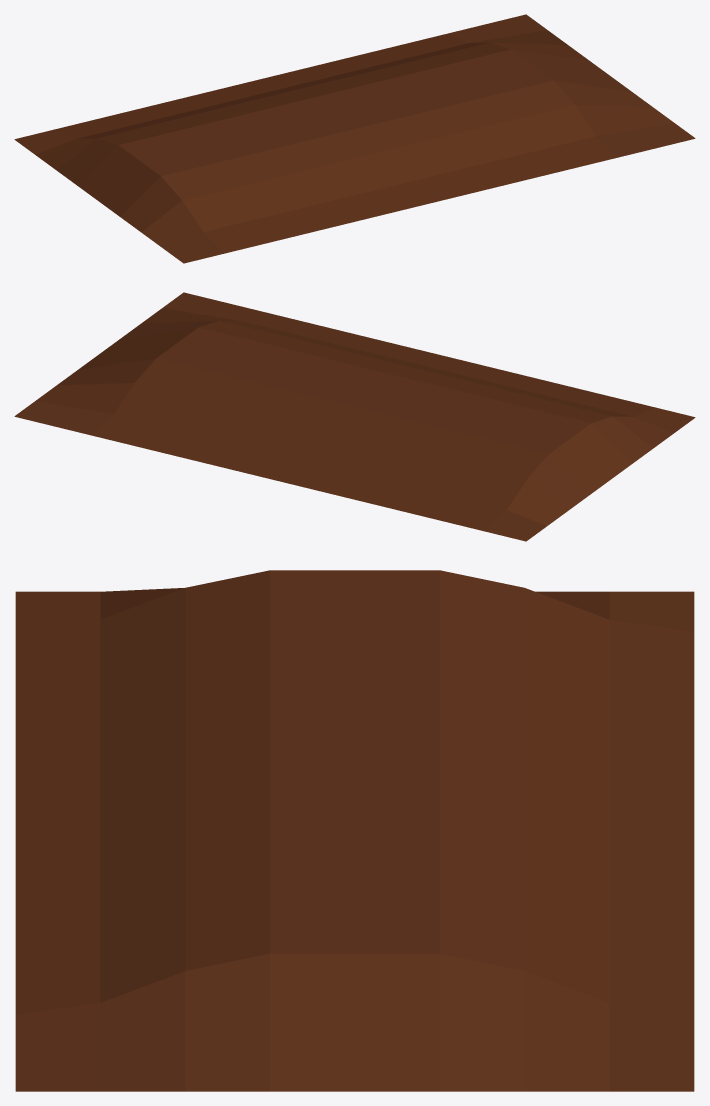
Rendered from Grave5.fbx.
3 views of the same model, one above another, from view 1: azimuth 30°, elevation 25°; view 2: azimuth 150°, elevation 25°; view 3: azimuth 270°, elevation 25° (orthographic). The views are drawn at different scales.
Visible parts, largest first — view 1: Grave5; view 2: Grave5; view 3: Grave5.
Boxes of the visible parts, left/top/right/bottom form: Grave5: left=14, top=14, right=695, bottom=263; Grave5: left=14, top=292, right=695, bottom=541; Grave5: left=15, top=570, right=694, bottom=1091.
Bounding box in the file's own units: 1189 × 68.17 × 683.
